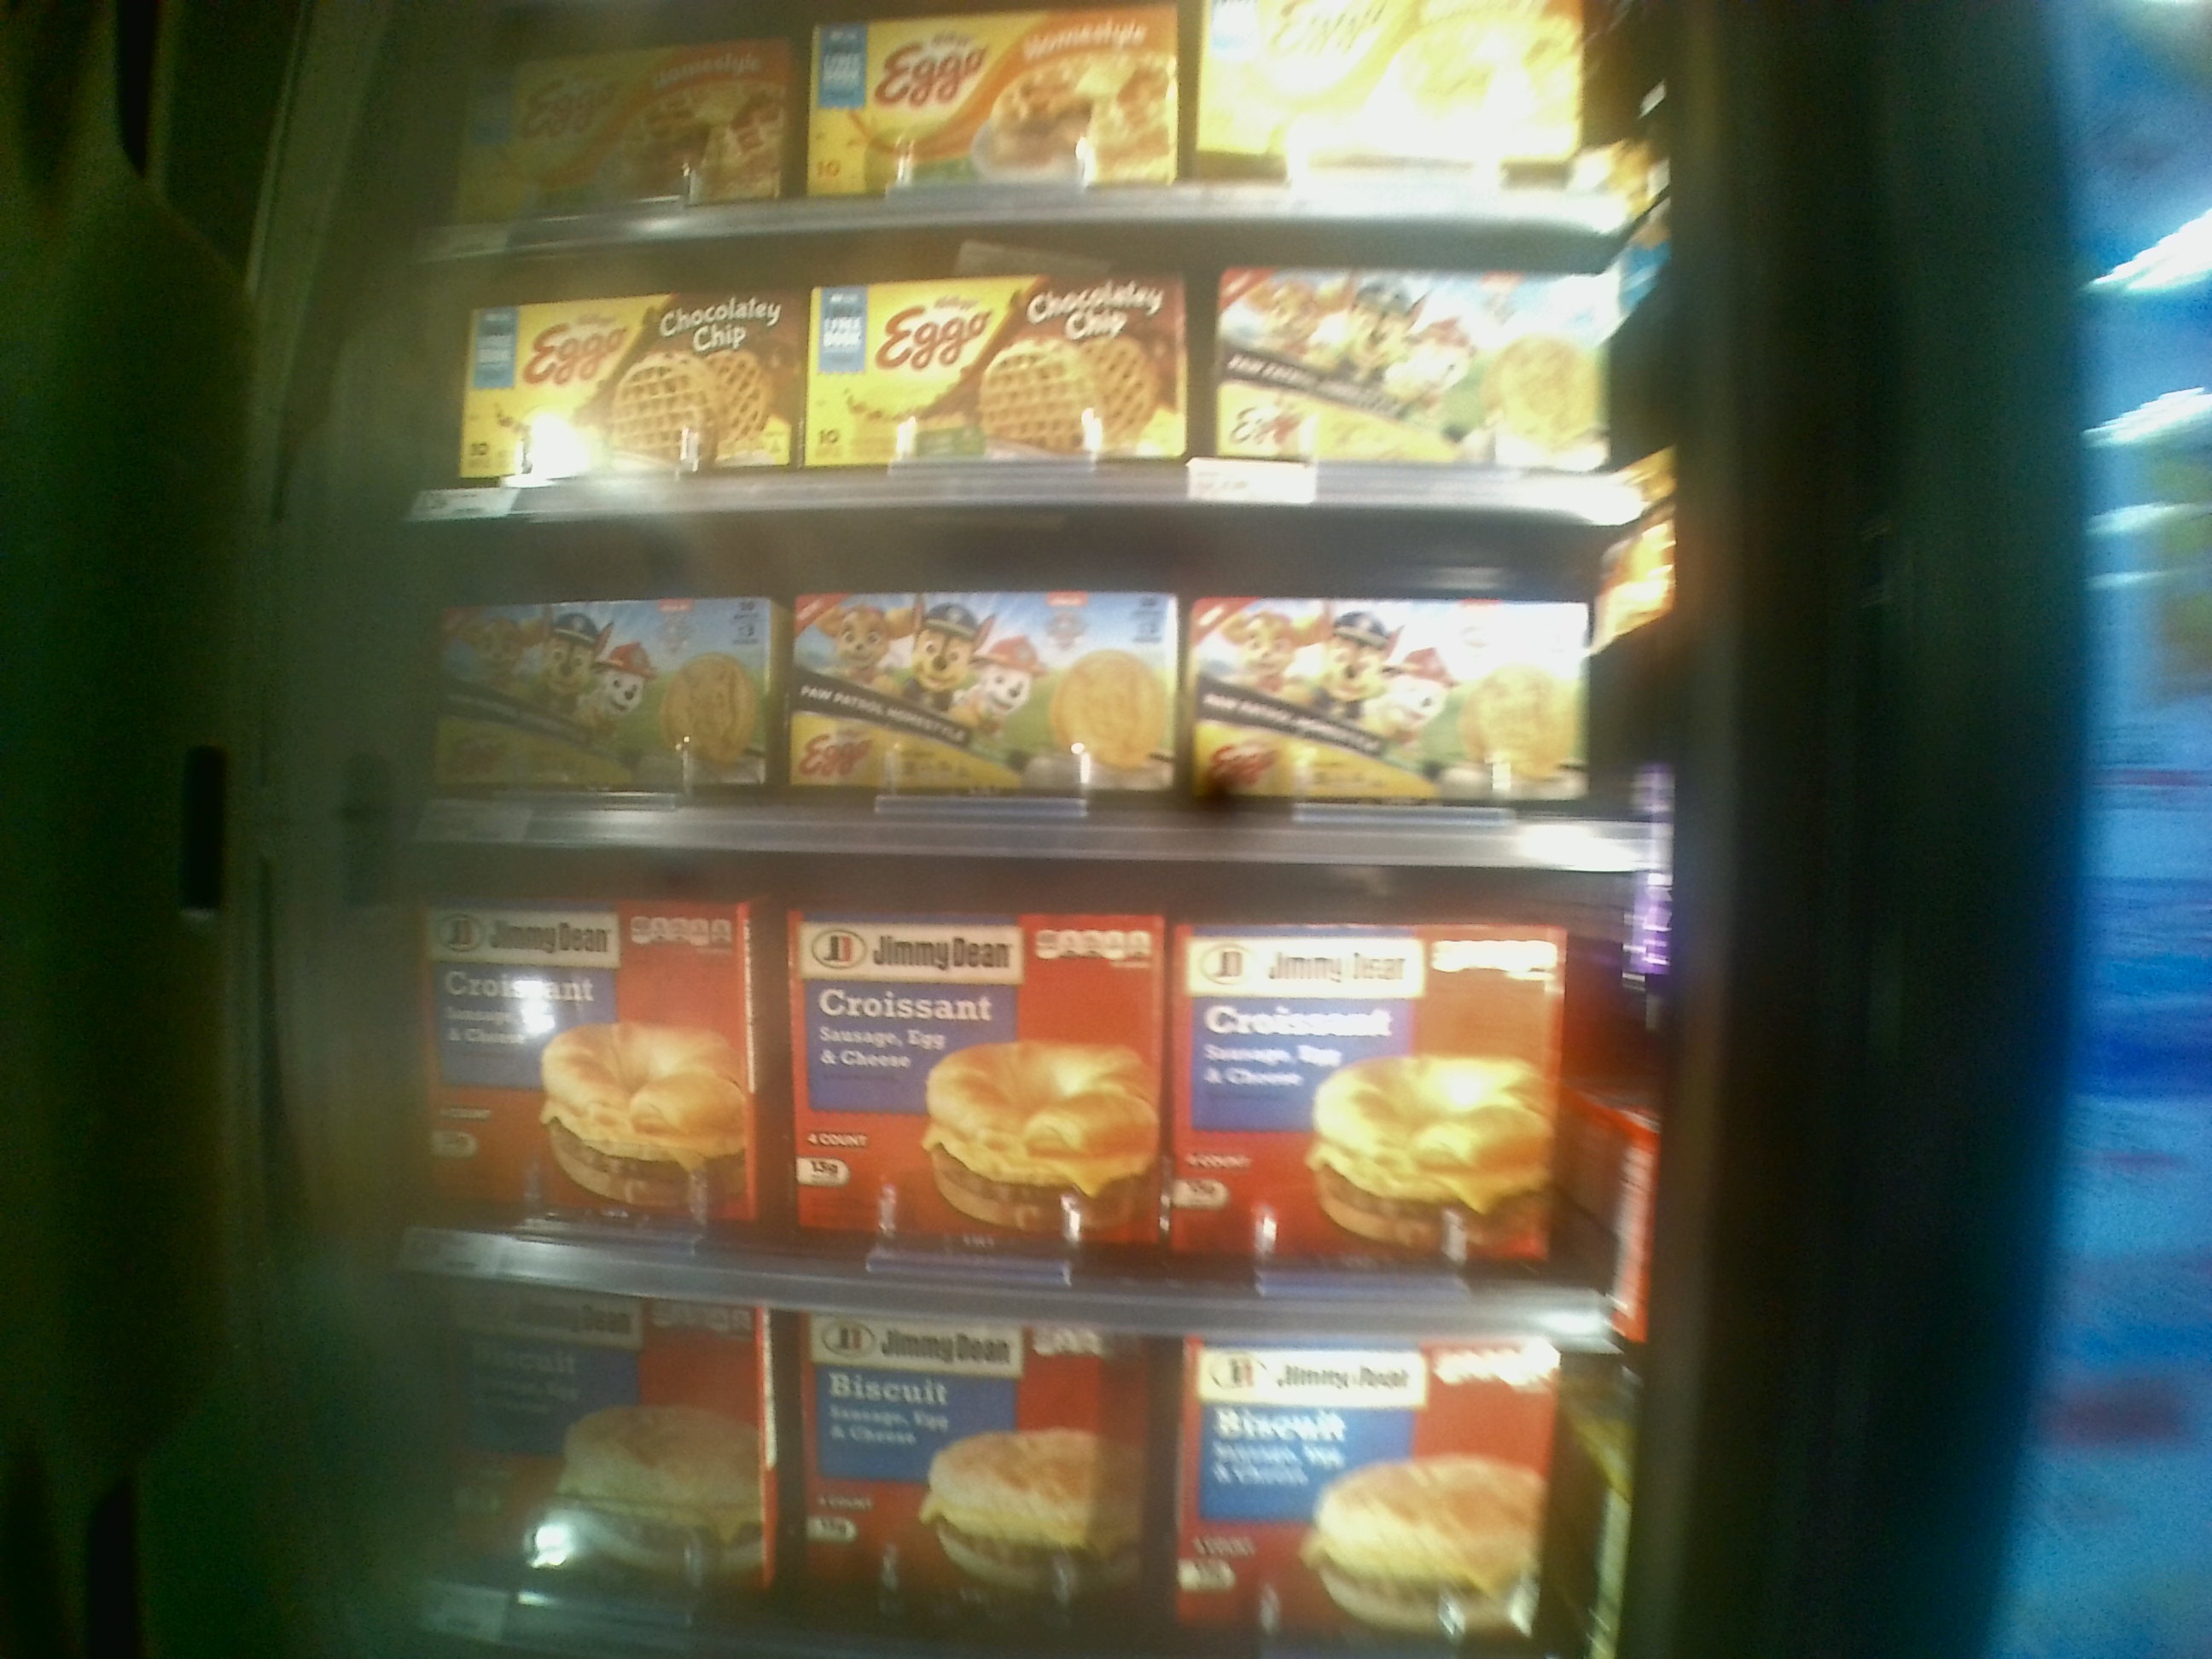shelf: (394, 833, 1623, 1349), (383, 500, 1634, 863)
